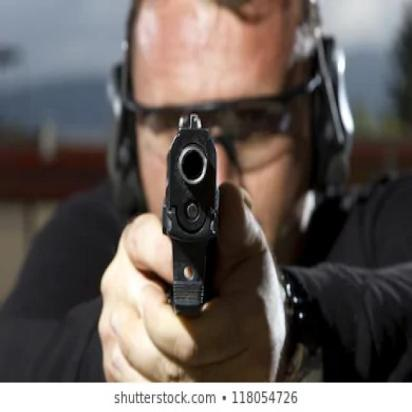Gun: (152, 112, 237, 358)
